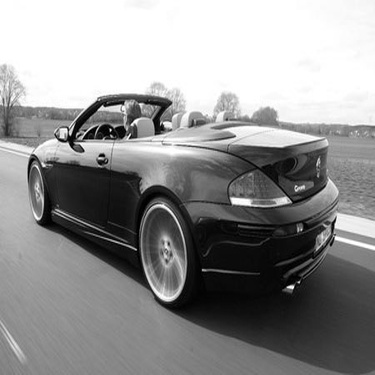car: (24, 76, 347, 319)
